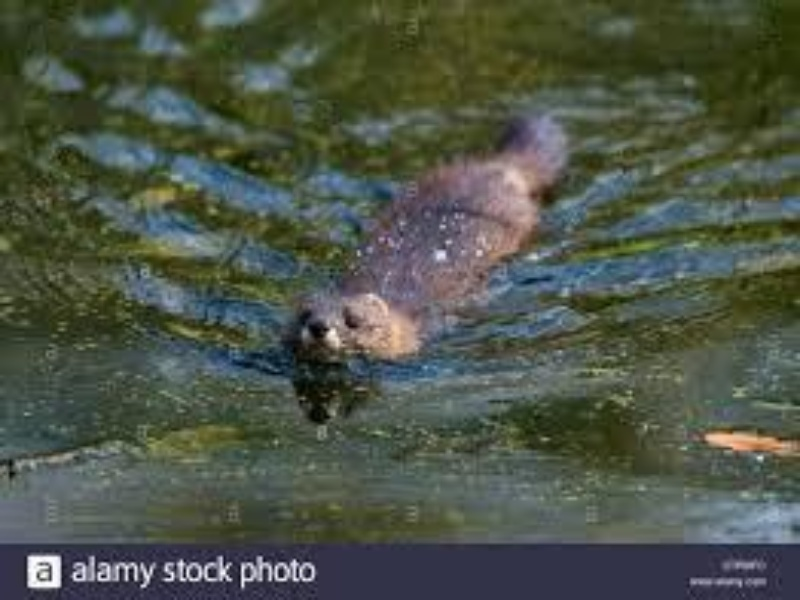minkish: (288, 111, 566, 370)
